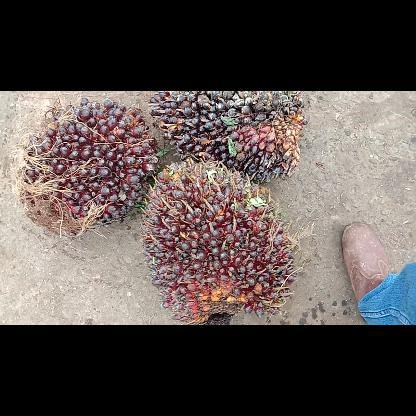Kurang masak: (142, 162, 296, 323), (20, 98, 156, 228)
TBS mentah: (150, 90, 304, 182)
